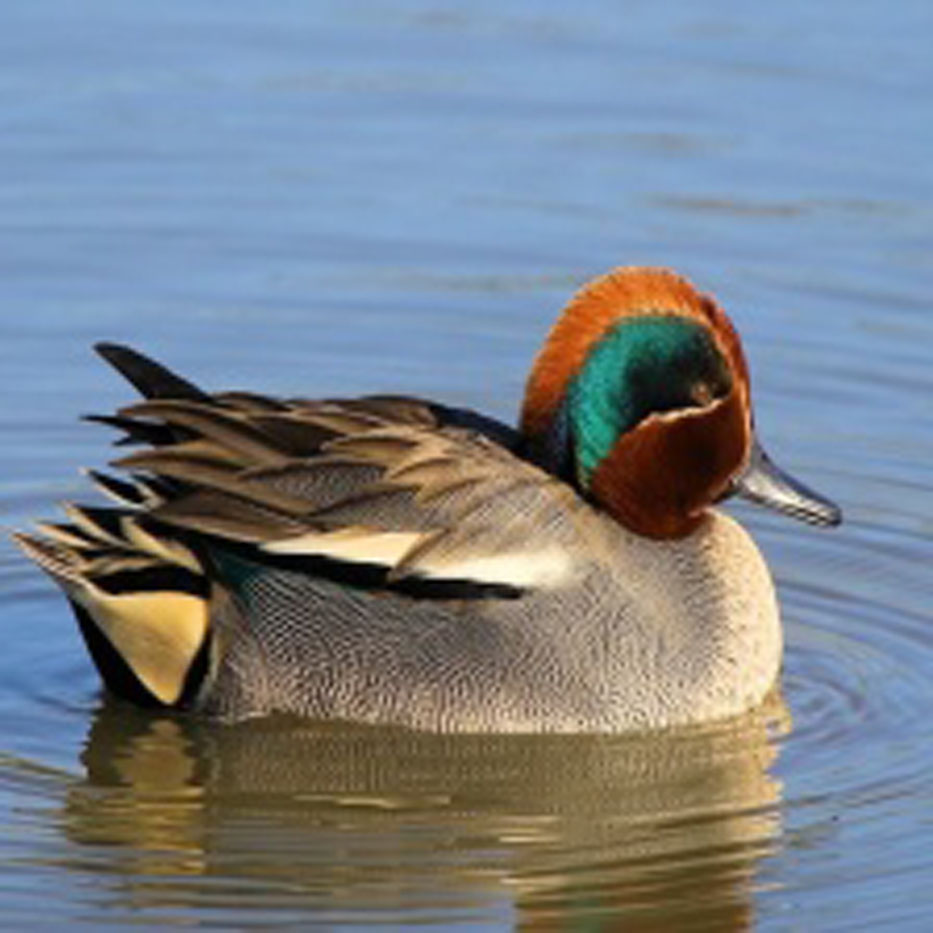Mencari Makan di Lumpur: (736, 428, 854, 548)
